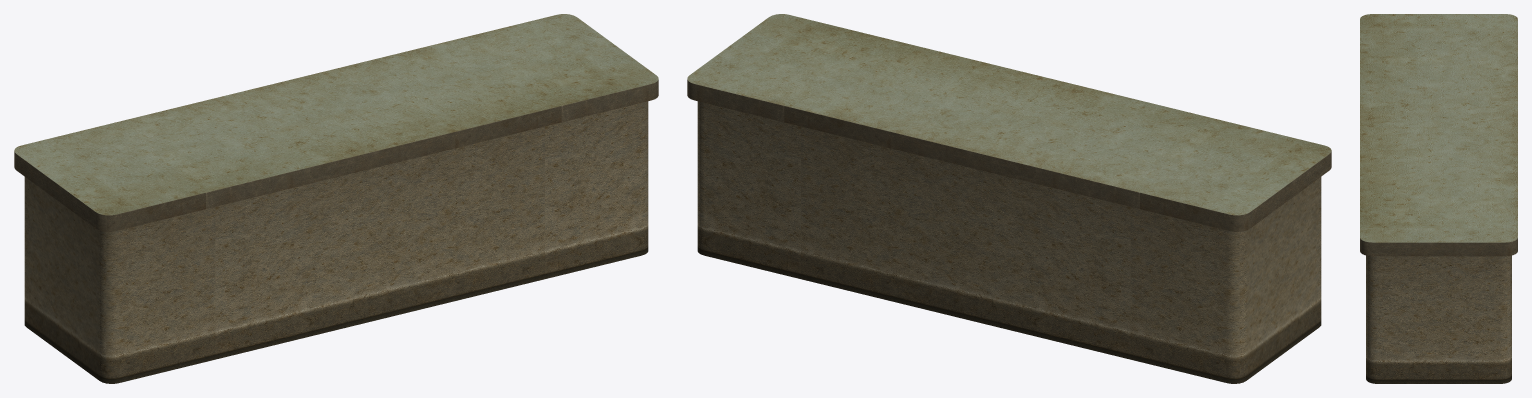
The model's file is counterSupermarket.fbx.
The picture shows the model from 3 angles, left to right: view 1: azimuth 30°, elevation 25°; view 2: azimuth 150°, elevation 25°; view 3: azimuth 270°, elevation 25°; orthographic projection. The views are drawn at different scales.
Parts seen in each view (by area): view 1: CounterDown, CounterUp; view 2: CounterDown, CounterUp; view 3: CounterUp, CounterDown.
Part boxes in pixels (x1,y1,x2,y2): CounterDown: (24,101,648,383); CounterUp: (14,14,658,231); CounterDown: (697,101,1321,383); CounterUp: (687,14,1331,231); CounterUp: (1360,14,1517,256); CounterDown: (1366,255,1511,383).
Bounding box in the file's own units: 319 × 93.93 × 93.19.
